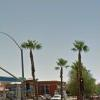Palm tree: (20, 36, 52, 100)
